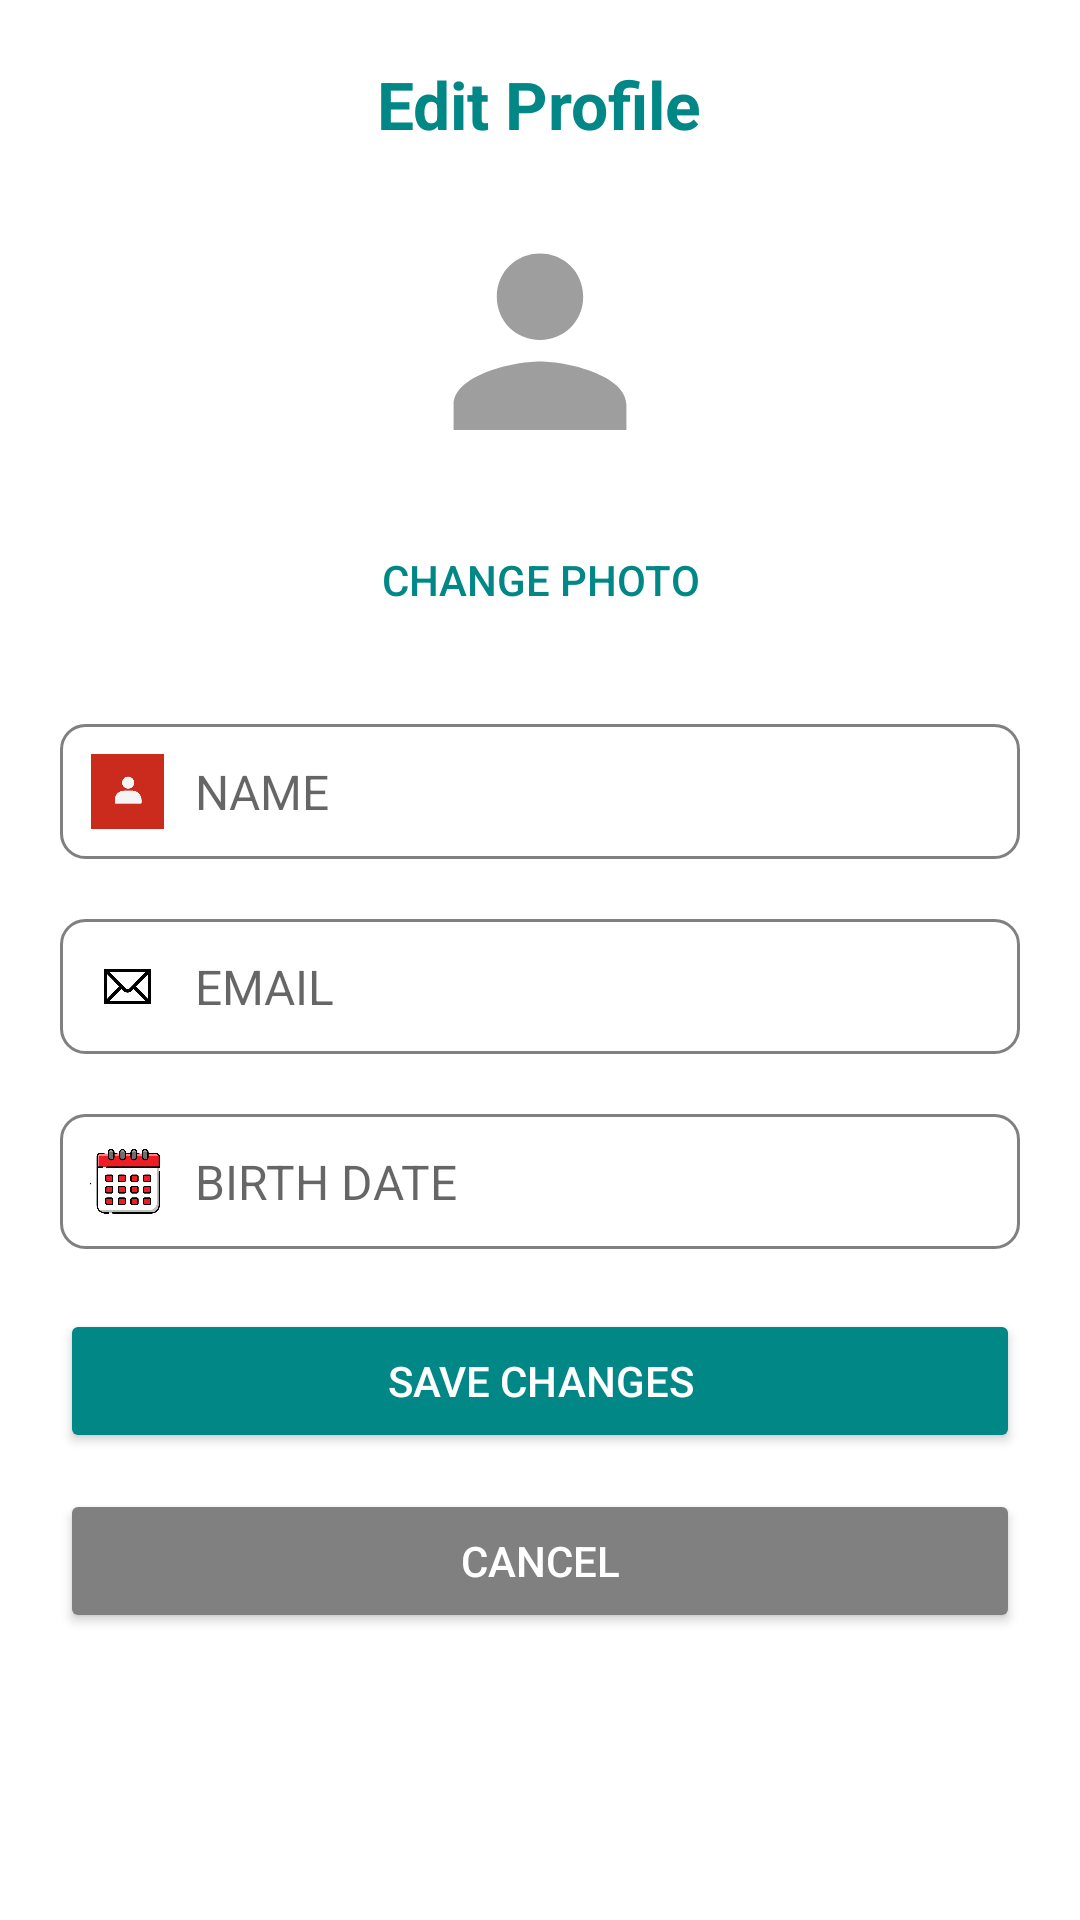

Where icons sit on this 1080px×1920px app screen, as (x1, y1, x2, y2):
calendar: (90, 1149, 160, 1214)
user: (91, 754, 164, 829)
